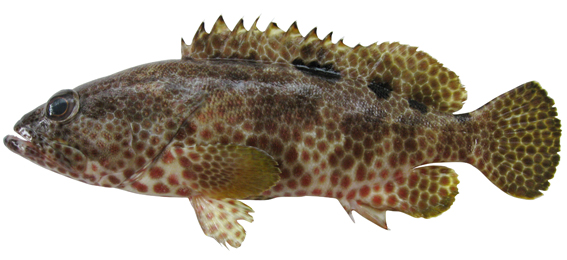fish: (3, 13, 562, 251)
